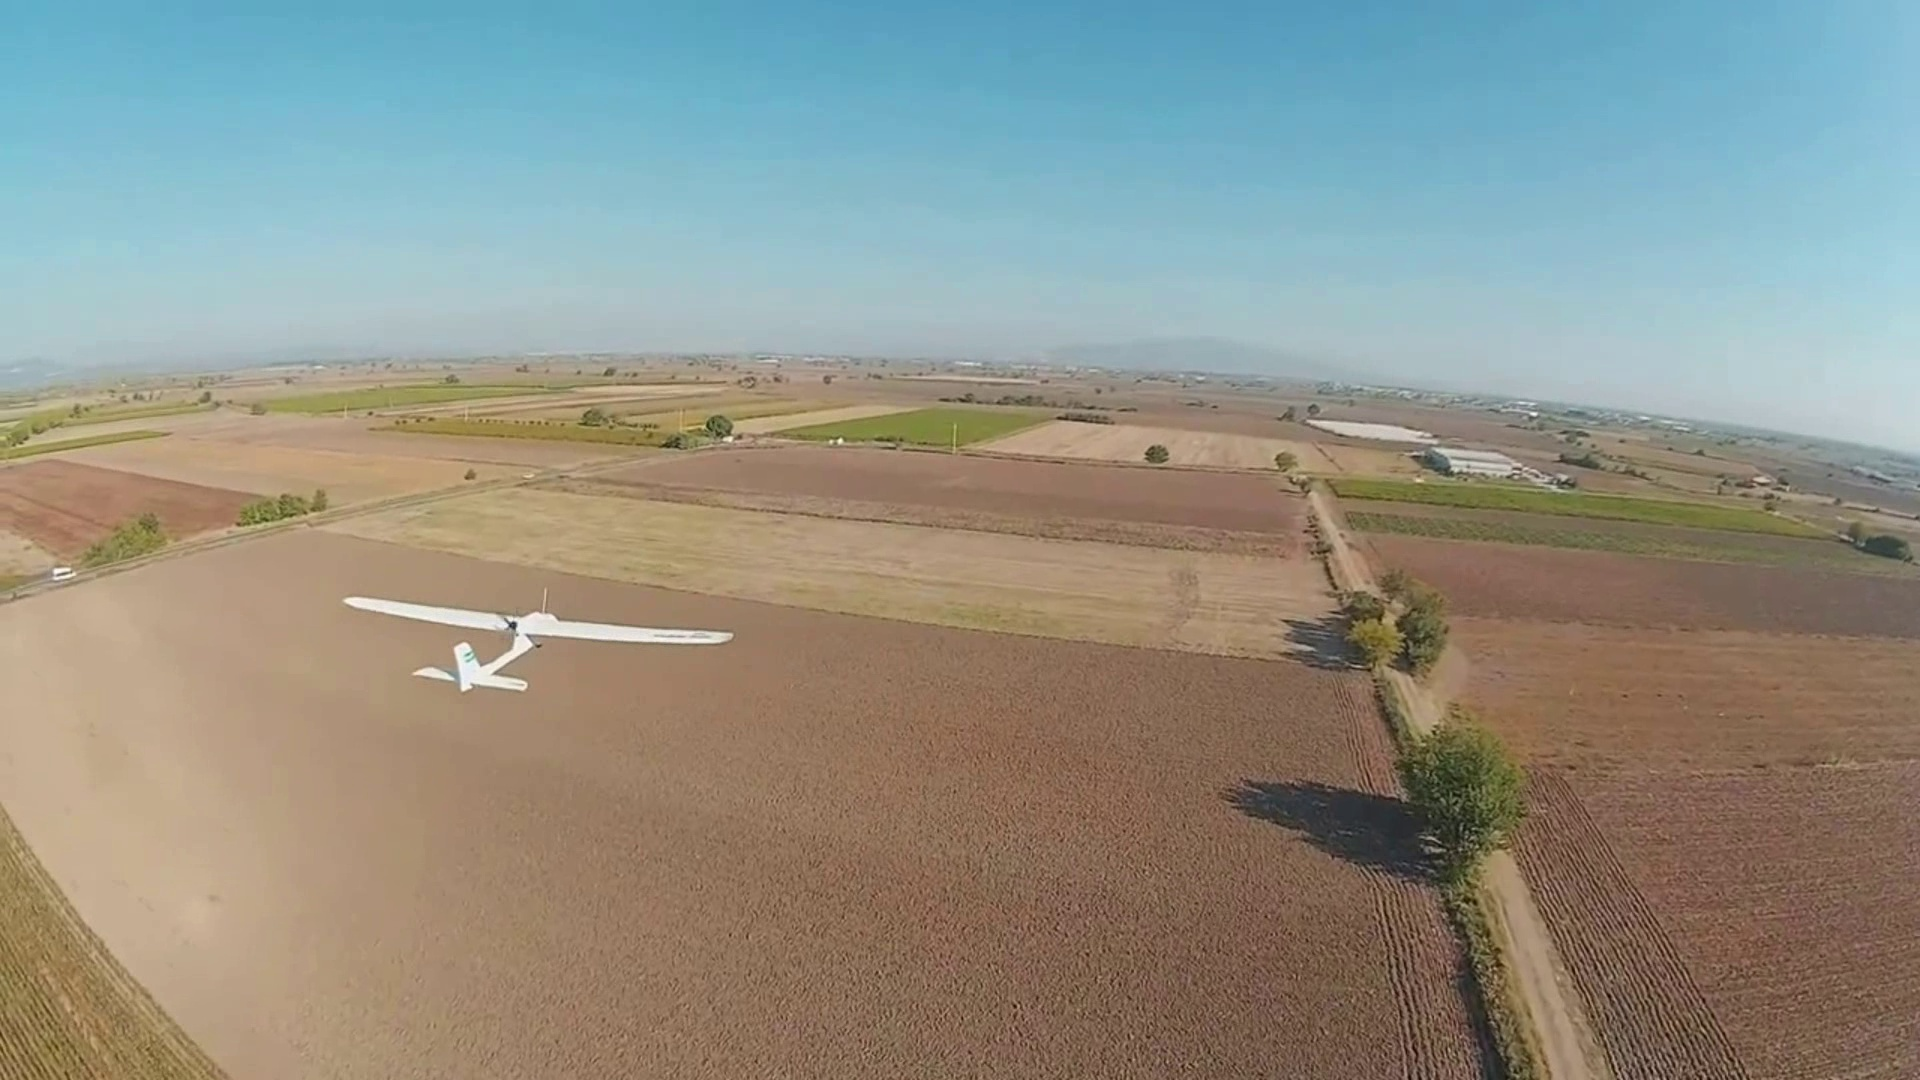airplane: (342, 592, 736, 695)
